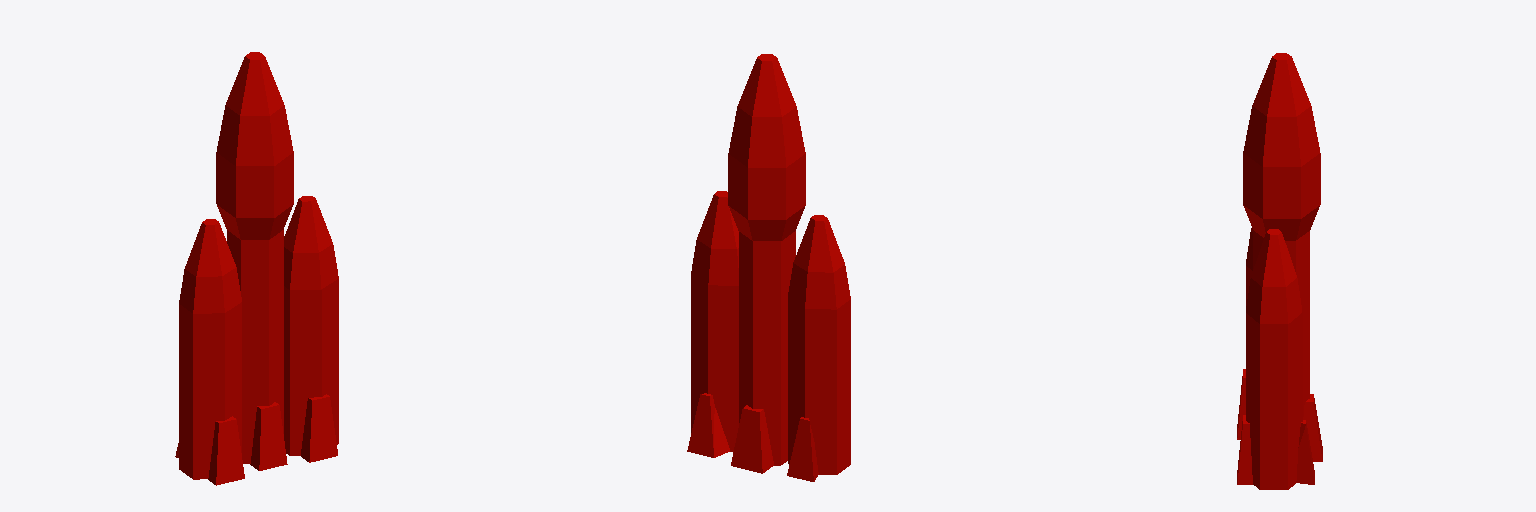
The model's file is rocket.obj.
3 renders of one model, left to right at view 1: azimuth 30°, elevation 25°; view 2: azimuth 150°, elevation 25°; view 3: azimuth 270°, elevation 25°, orthographic.
Parts seen in each view (by area): view 1: Circle; view 2: Circle; view 3: Circle.
Part boxes in pixels (bbox=[...]): Circle: bbox=[175, 52, 338, 485]; Circle: bbox=[687, 54, 850, 481]; Circle: bbox=[1237, 53, 1322, 489].
Bounding box in the file's own units: 7.81 × 20.39 × 3.95.